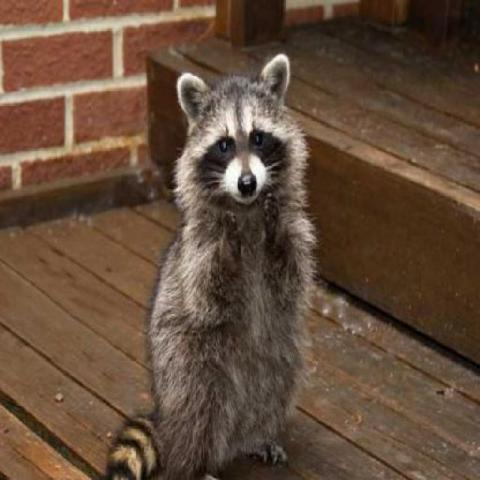small_animal: (103, 52, 318, 479)
